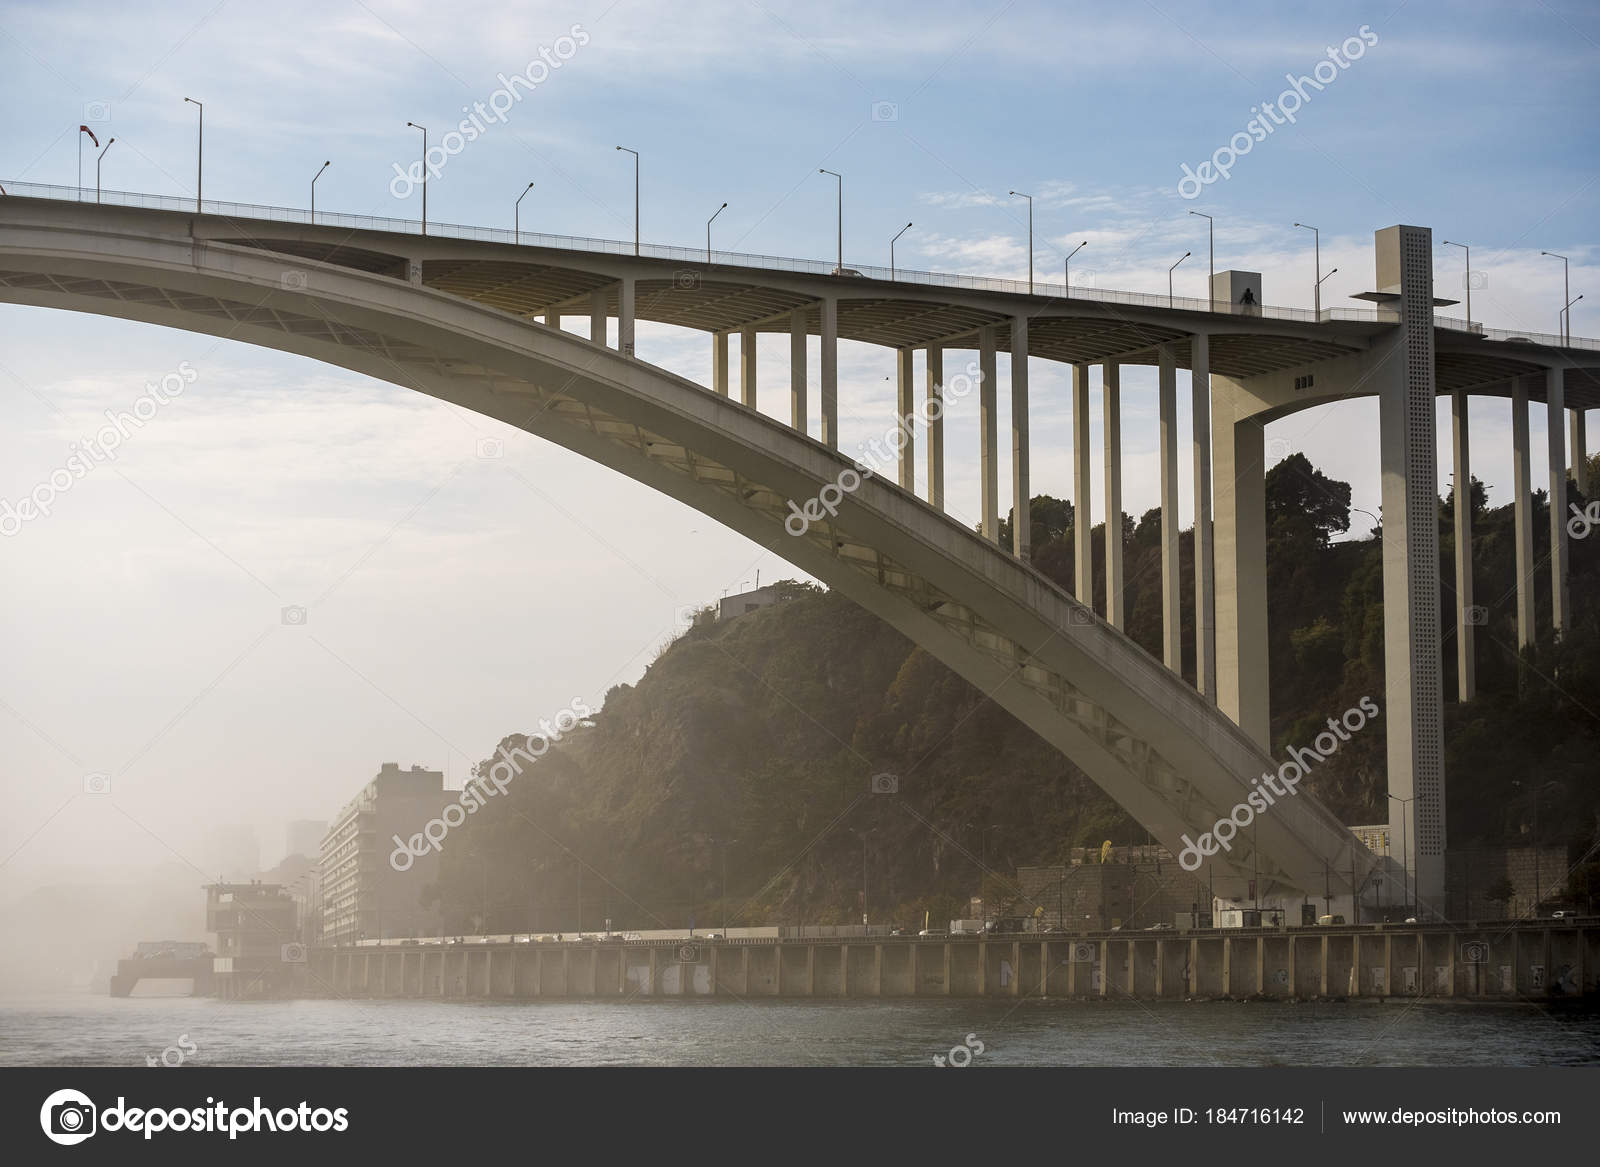arrabida: (0, 194, 1599, 928)
